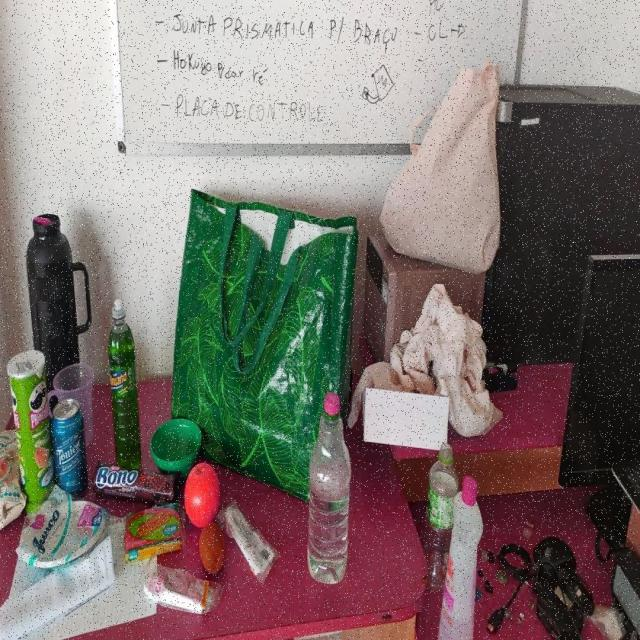Bag: (168, 184, 358, 501), (379, 58, 505, 276)
Bowl: (151, 416, 203, 478)
Cleaner: (104, 297, 143, 473)
Cookies: (94, 463, 178, 508)
CornFlakes: (0, 430, 28, 539)
Kiwi: (197, 524, 226, 574)
Mug: (51, 357, 97, 445)
Orange: (186, 464, 221, 527)
Plate: (18, 501, 106, 569)
Pringles: (11, 347, 58, 516)
Sponge: (124, 511, 184, 566)
Tonic: (54, 400, 90, 506)
